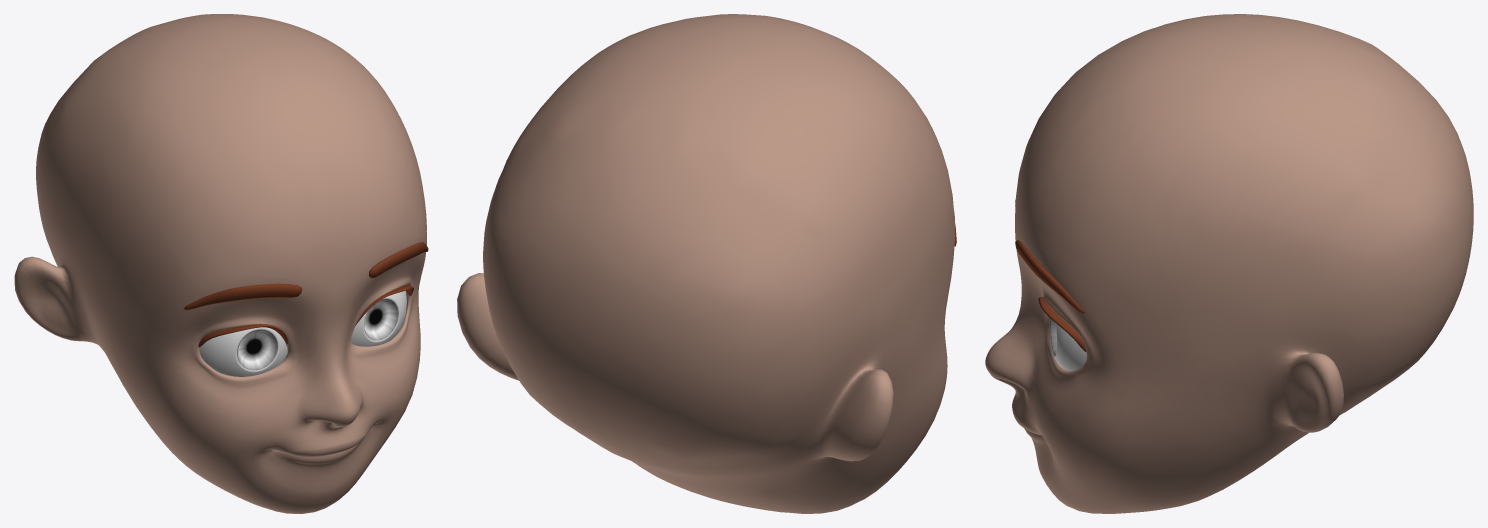
3 views of the same model, side by side, from view 1: azimuth 30°, elevation 25°; view 2: azimuth 150°, elevation 25°; view 3: azimuth 270°, elevation 25° (orthographic). The views are drawn at different scales.
Visible parts, largest first — view 1: skin, eyes, brows, lashes; view 2: skin; view 3: skin, eyes, brows.
Part boxes in pixels (x1,y1,x2,y2): skin: (14, 14, 426, 513); eyes: (199, 290, 406, 376); brows: (183, 242, 428, 310); lashes: (198, 285, 413, 347); skin: (457, 14, 954, 513); skin: (985, 14, 1473, 513); eyes: (1049, 318, 1086, 370); brows: (1015, 200, 1084, 313).
Bounding box in the file's own units: 1.79 × 2 × 1.9.
Materials: 9 (1 with a texture image).
